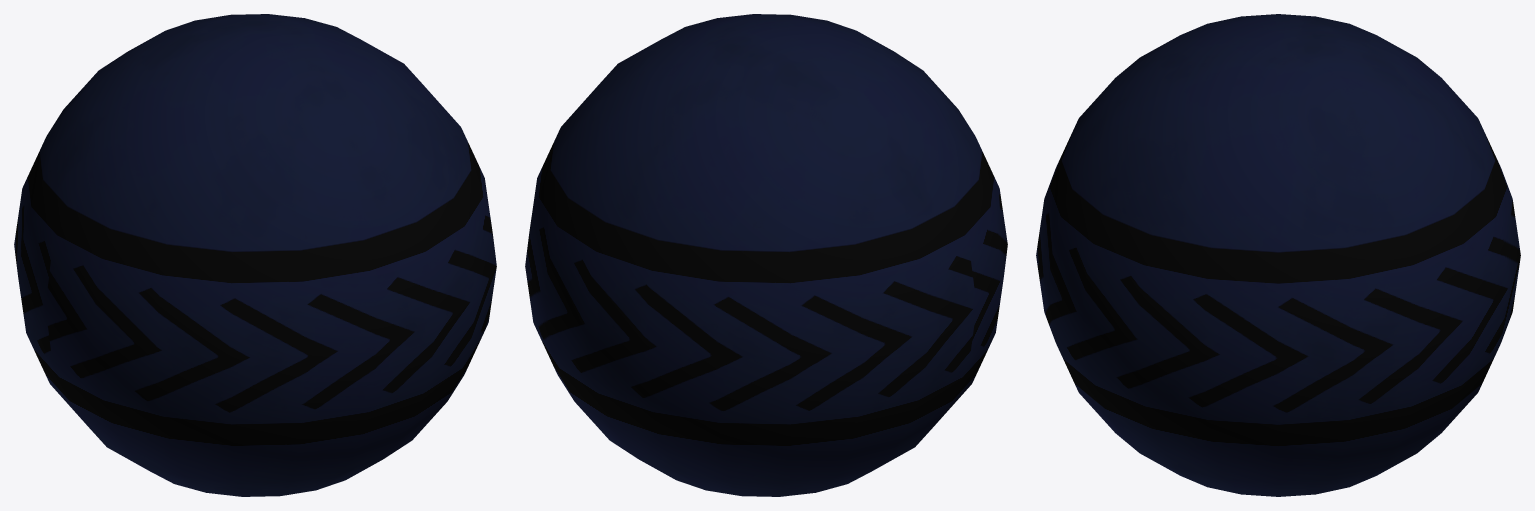
The model's file is DashOrb.fbx.
The picture shows the model from 3 angles, left to right: view 1: azimuth 30°, elevation 25°; view 2: azimuth 150°, elevation 25°; view 3: azimuth 270°, elevation 25°; orthographic projection.
Parts seen in each view (by area): view 1: DashOrbBake; view 2: DashOrbBake; view 3: DashOrbBake.
Boxes of the visible parts, left/top/right/bottom form: DashOrbBake: left=14, top=14, right=496, bottom=496; DashOrbBake: left=525, top=14, right=1007, bottom=496; DashOrbBake: left=1036, top=14, right=1520, bottom=496.
Bounding box in the file's own units: 200 × 200 × 200.
1 material, 1 textured.
